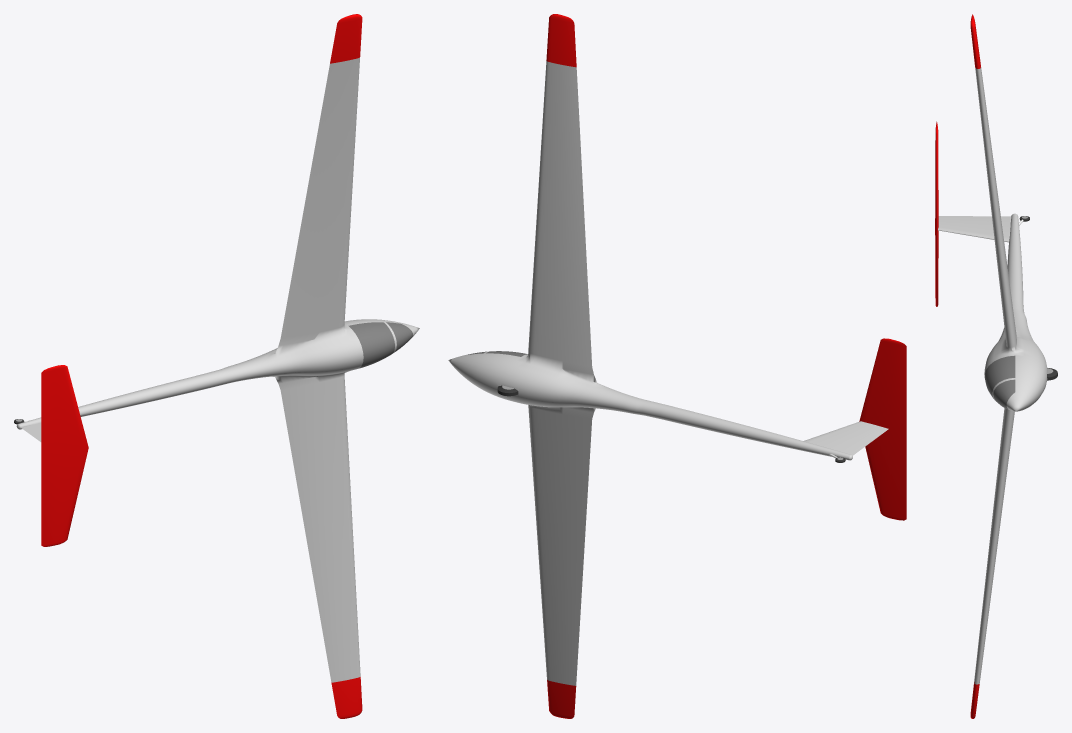
File: glider.obj
3 renders of one model, left to right at view 1: azimuth 30°, elevation 25°; view 2: azimuth 150°, elevation 25°; view 3: azimuth 270°, elevation 25°, orthographic.
Size of the model in its own units: 43.85 by 70.29 by 11.2.
